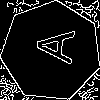A: (26, 26, 75, 64)
